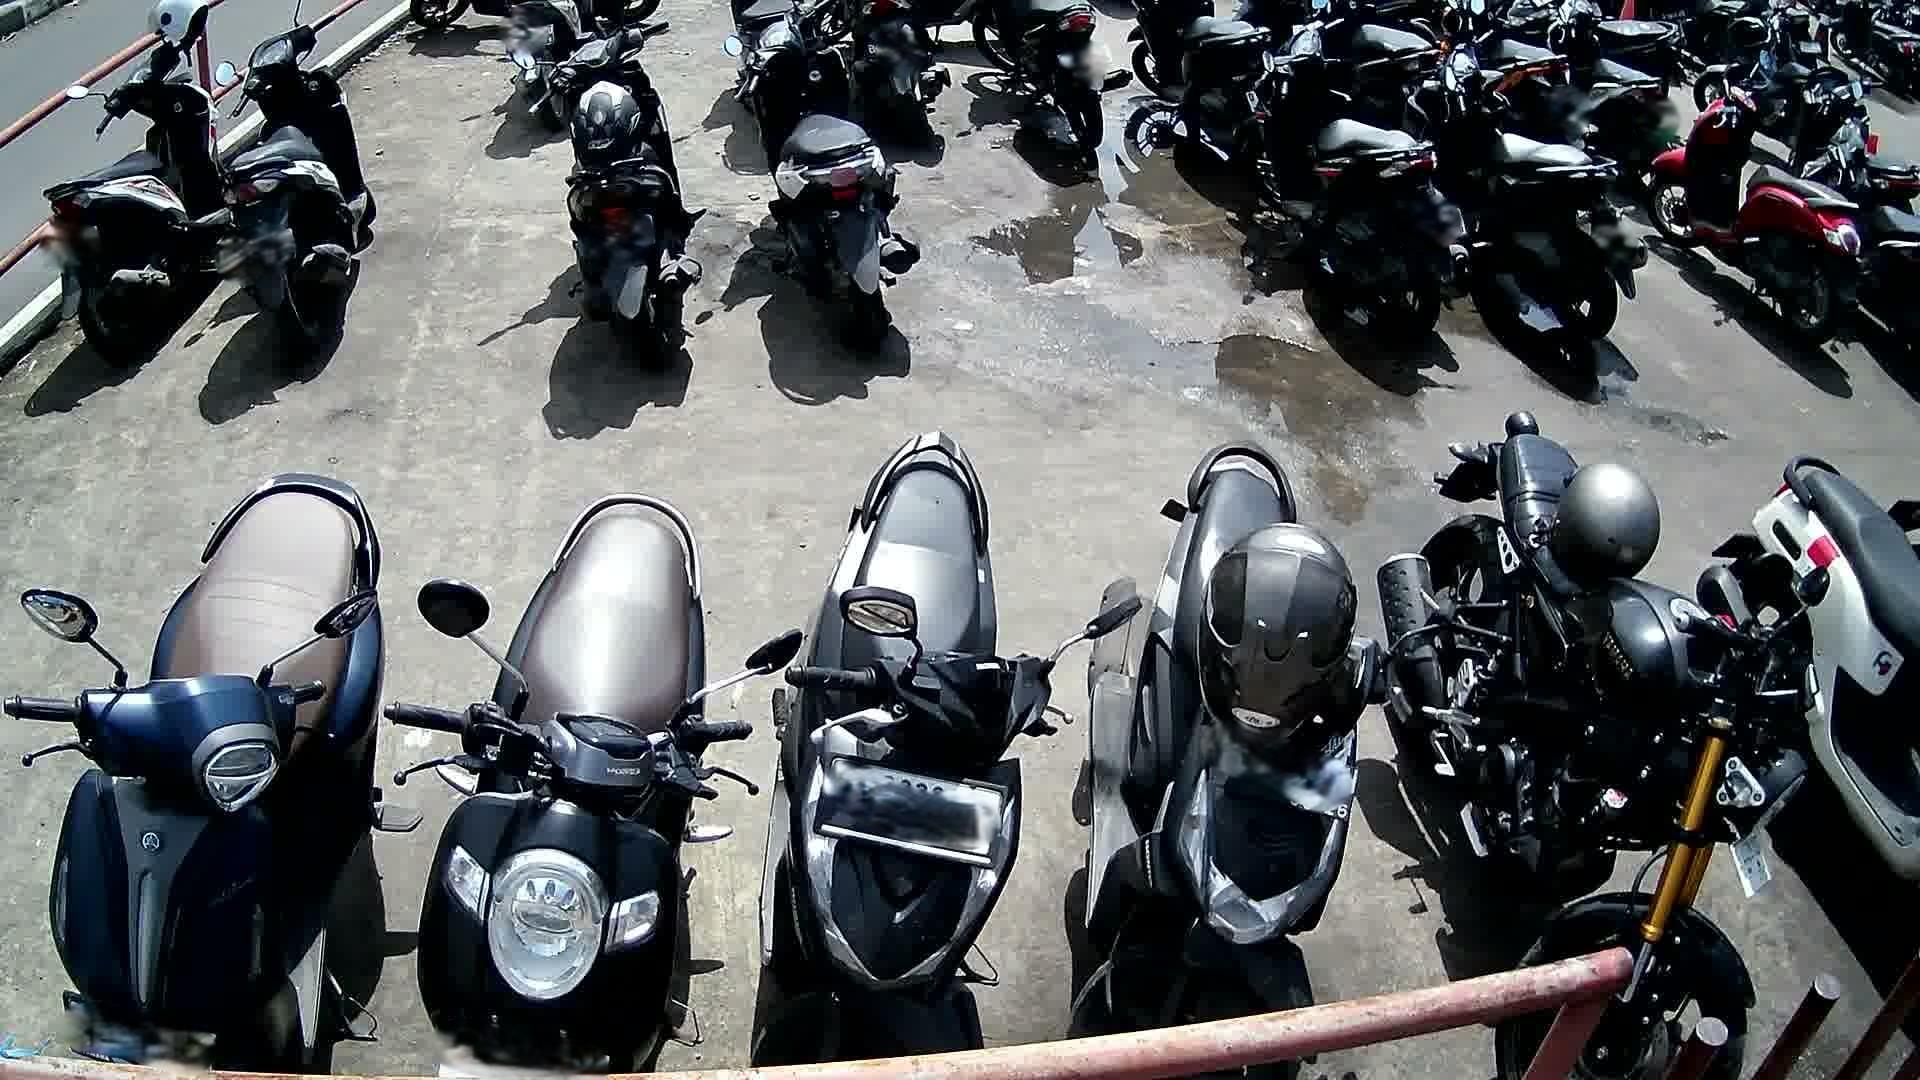motorcycle: (1378, 414, 1808, 1080), (2, 469, 427, 1071), (384, 490, 802, 1080), (752, 432, 1110, 1068), (1070, 442, 1392, 1039), (1696, 451, 1920, 887), (1245, 0, 1478, 362), (1401, 25, 1655, 354), (509, 0, 713, 380), (724, 0, 926, 355), (41, 24, 233, 362), (215, 0, 388, 364), (1650, 74, 1872, 350)
